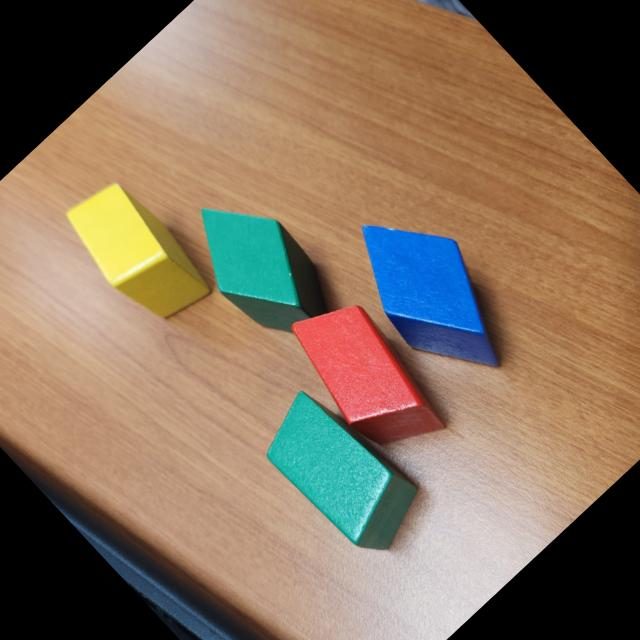blue: (326, 184, 540, 403)
green: (245, 373, 437, 570), (168, 174, 352, 362)
red: (272, 279, 462, 475)
yellow: (52, 166, 224, 342)
